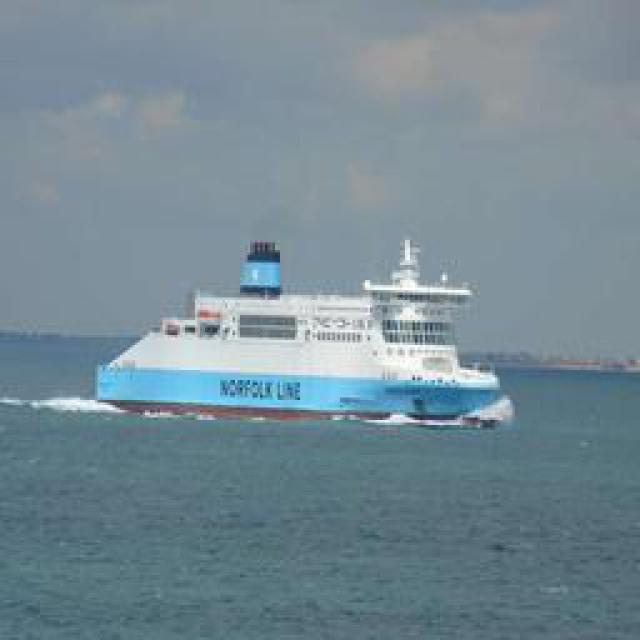Ship: (102, 235, 512, 425)
